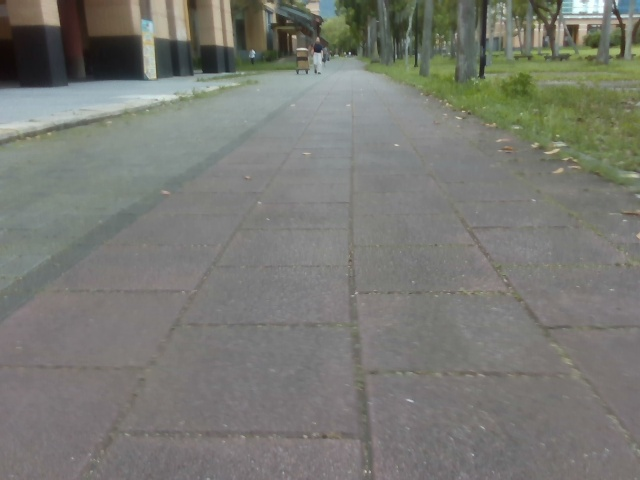grass: (362, 45, 639, 194), (322, 0, 459, 71), (477, 0, 564, 79), (587, 8, 639, 63)
road: (0, 58, 639, 479)
sidewalk: (0, 73, 250, 144)
